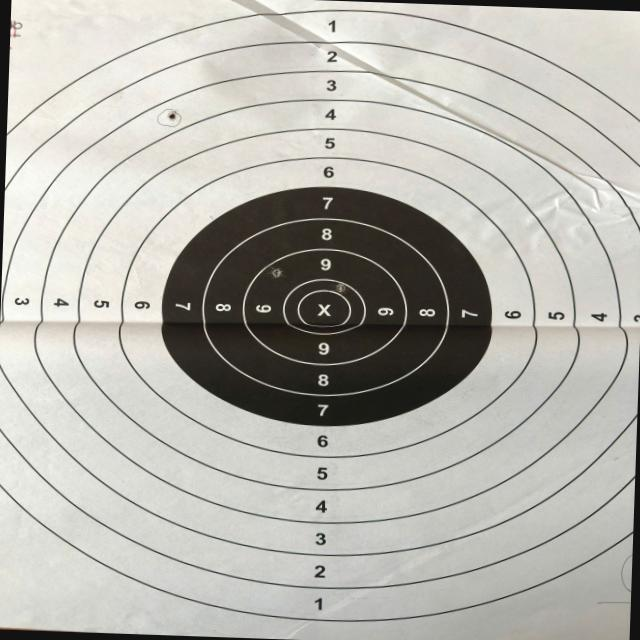bullet: (270, 267, 281, 277), (166, 111, 177, 121), (337, 284, 344, 292)
target: (0, 0, 640, 640)
